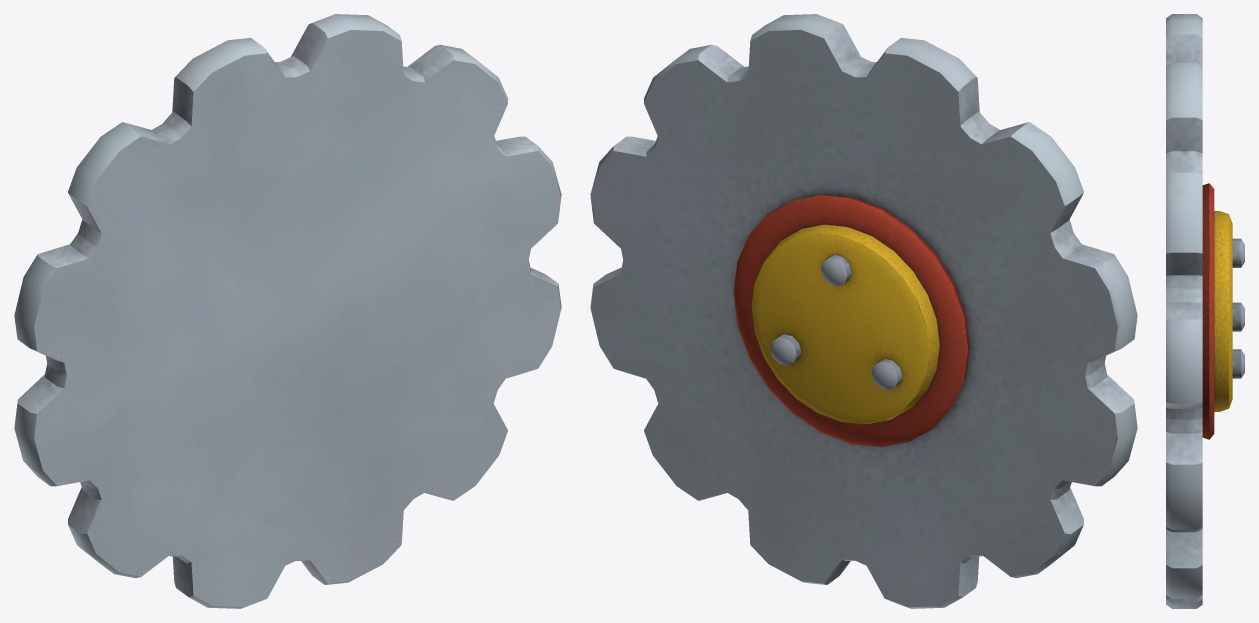
3 views of the same model, side by side, from view 1: azimuth 30°, elevation 25°; view 2: azimuth 150°, elevation 25°; view 3: azimuth 270°, elevation 25° (orthographic). The views are drawn at different scales.
Visible parts, largest first — view 1: Brushed_polished_steel; view 2: Brushed_polished_steel, Hardhat_yellow_plastic, Brick_red_glossy_ring; view 3: Brushed_polished_steel, Hardhat_yellow_plastic, Brick_red_glossy_ring.
Boxes of the visible parts, x1=… form: Brushed_polished_steel: x1=14, y1=14, x2=561, y2=608; Brushed_polished_steel: x1=590, y1=14, x2=1137, y2=608; Hardhat_yellow_plastic: x1=751, y1=224, x2=939, y2=424; Brick_red_glossy_ring: x1=733, y1=194, x2=969, y2=446; Brushed_polished_steel: x1=1166, y1=14, x2=1244, y2=608; Hardhat_yellow_plastic: x1=1214, y1=211, x2=1232, y2=411; Brick_red_glossy_ring: x1=1202, y1=183, x2=1214, y2=439.
Size of the model in its own units: 0.9607 by 0.9607 by 0.129.
3 materials, 3 textured.
